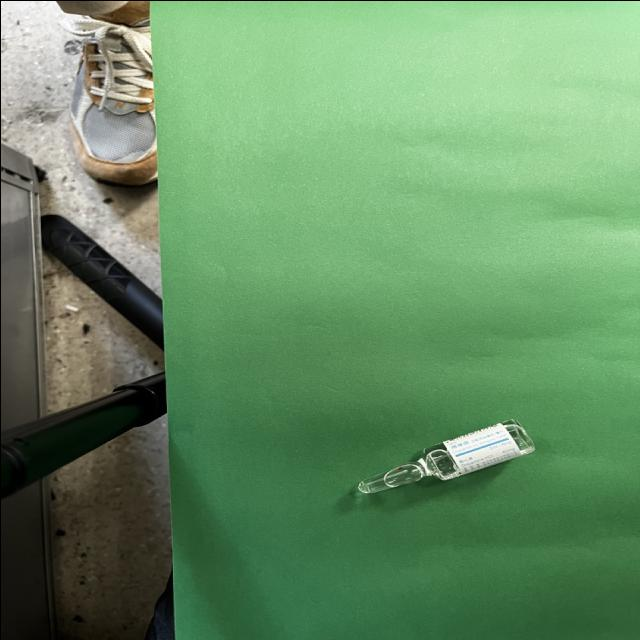Ampoules: (357, 418, 535, 493)
